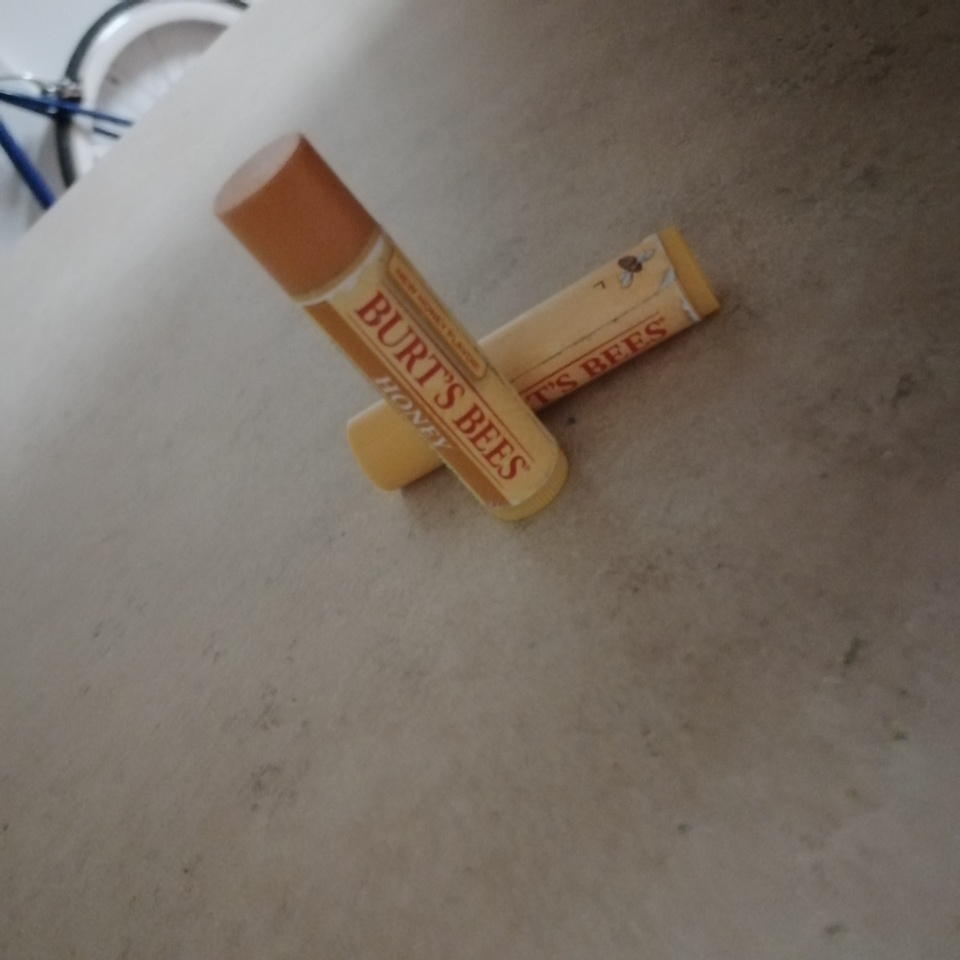chapstick: (212, 130, 572, 524), (342, 227, 723, 494)
